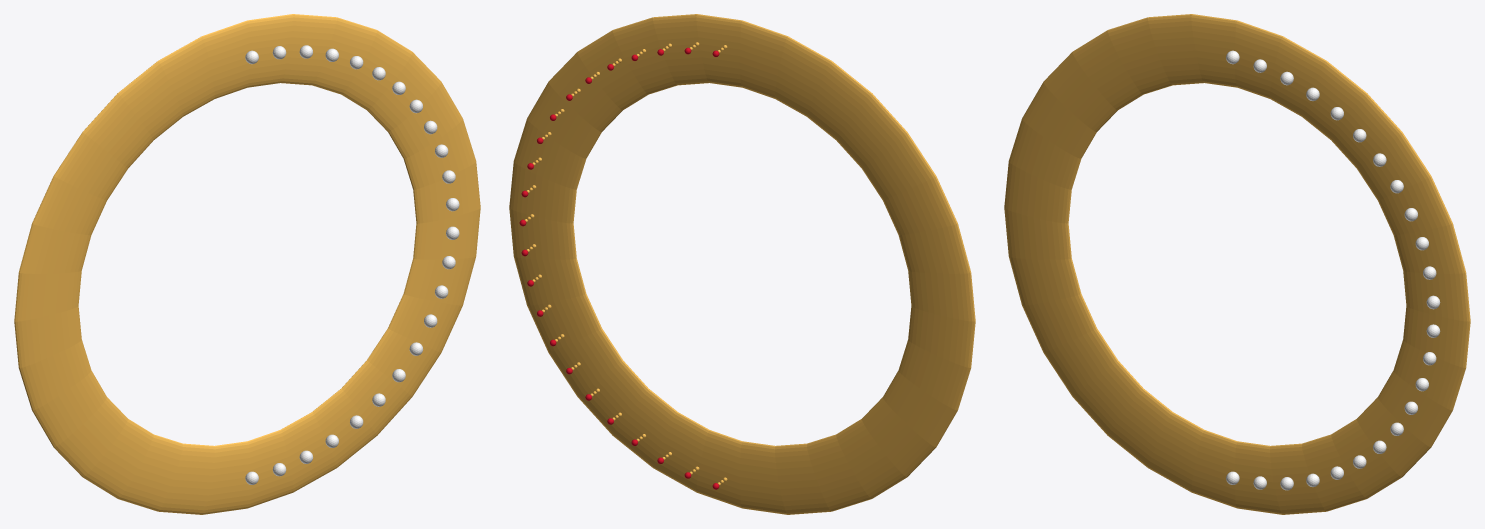
File: choker_kundan_wide.glb
The picture shows the model from 3 angles, left to right: view 1: azimuth 30°, elevation 25°; view 2: azimuth 150°, elevation 25°; view 3: azimuth 330°, elevation 25°; orthographic projection.
Parts seen in each view (by area): view 1: world; view 2: world; view 3: world.
Part boxes in pixels (x1,y1,x2,y2): world: [14, 14, 480, 514]; world: [509, 14, 975, 514]; world: [1004, 14, 1470, 514].
Size of the model in its own units: 0.174 by 0.174 by 0.0143.
Materials: 1 (1 with a texture image).
